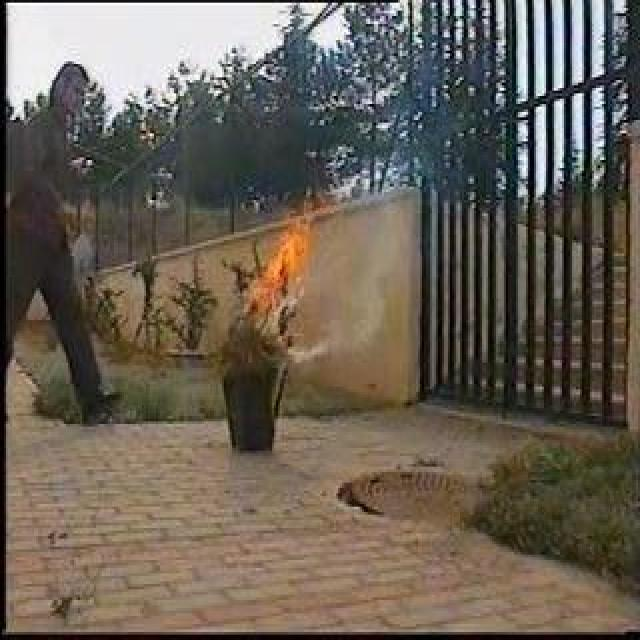fire: (243, 199, 313, 318)
